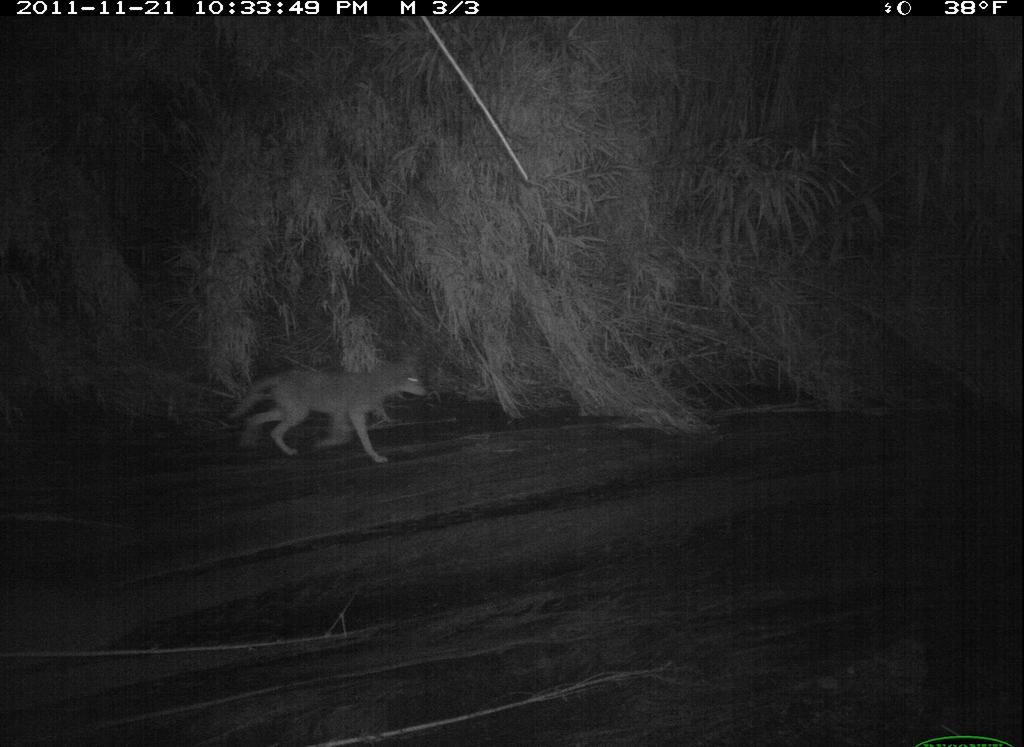coyote: (222, 326, 434, 484)
